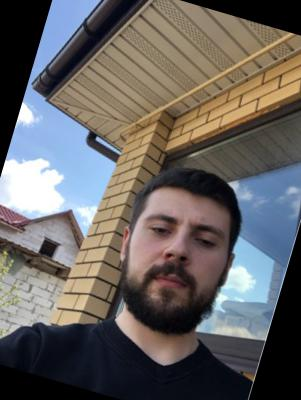without_mask: (110, 198, 236, 344)
